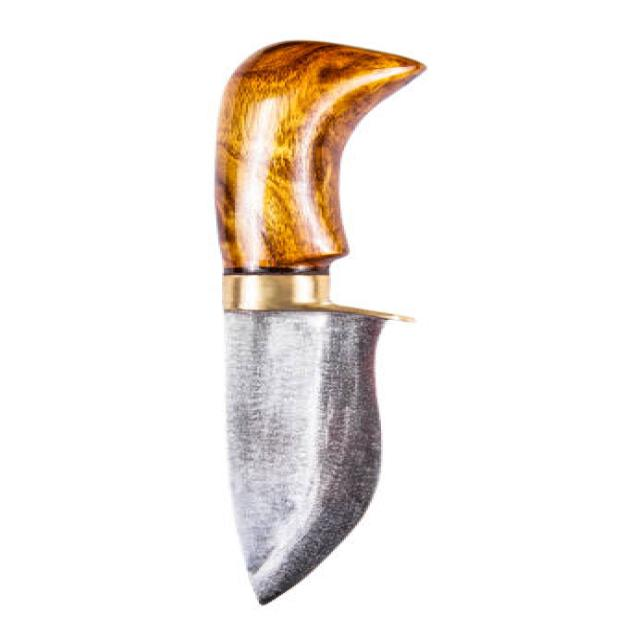knife: (198, 19, 440, 622)
